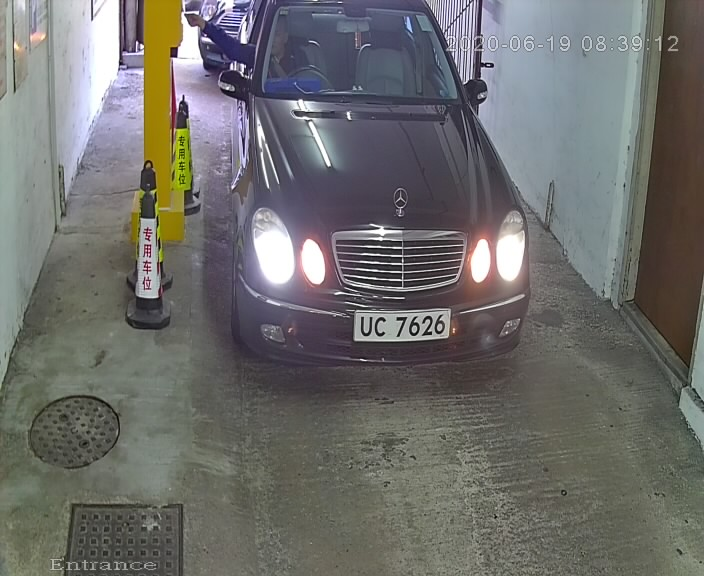bottom_left_lp: (352, 333, 360, 340)
bottom_left_radiator: (258, 83, 274, 94), (338, 276, 351, 286)
bottom_right_lp: (444, 331, 452, 340)
bottom_right_radiator: (441, 85, 460, 104), (450, 271, 458, 285)
brand: (390, 185, 411, 221)
left_headlight: (249, 199, 327, 295)
right_headlight: (468, 202, 534, 287)
top_left_lp: (352, 307, 360, 318)
top_left_radiator: (330, 231, 343, 245)
top_left_windshield: (275, 4, 285, 17)
top_right_lp: (445, 306, 453, 315)
top_right_radiator: (456, 232, 469, 247), (418, 10, 431, 18)
